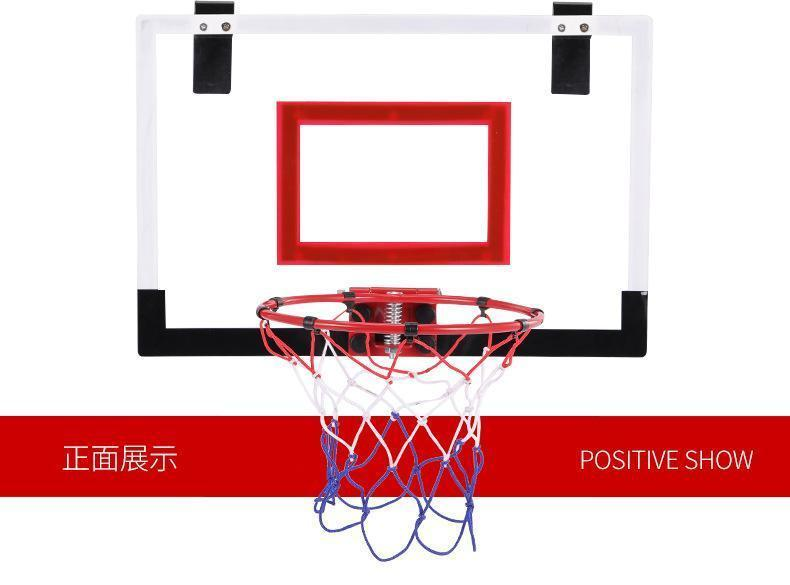rim: (256, 293, 546, 558)
